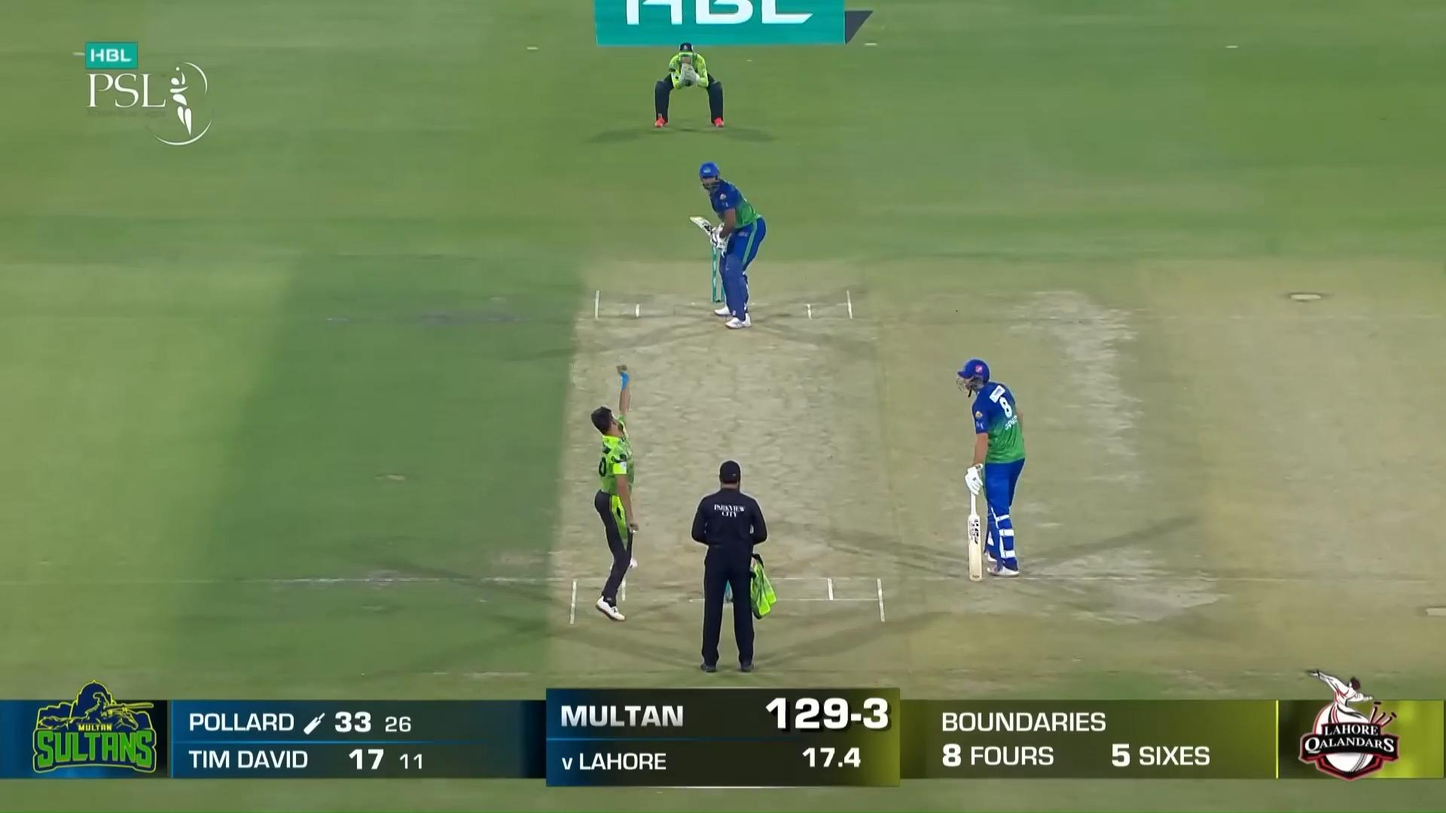batsman: (688, 160, 767, 326)
